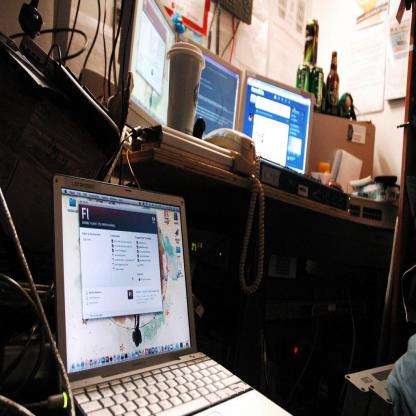board: (50, 185, 237, 416), (164, 41, 205, 135), (325, 50, 341, 115), (303, 19, 320, 67), (310, 66, 324, 112), (297, 64, 309, 94)
